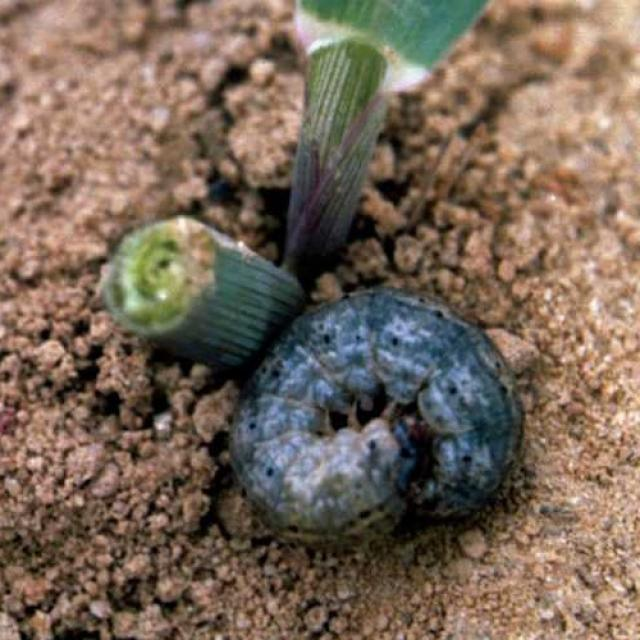worm: (228, 285, 526, 550)
